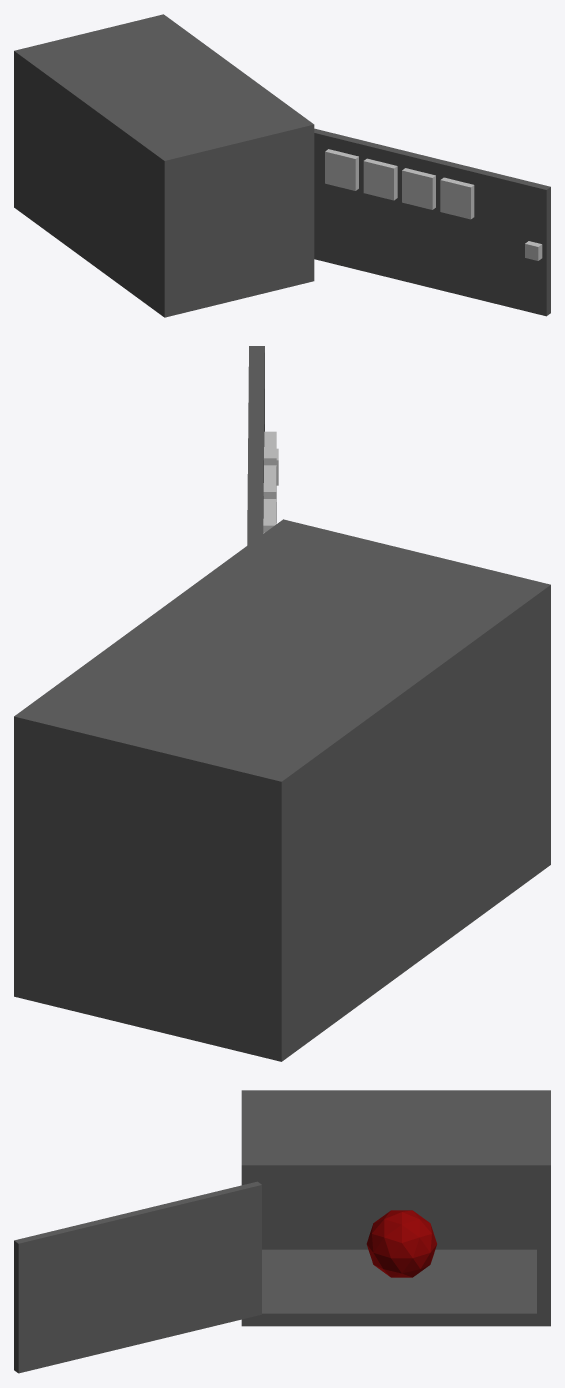
File: xyz2.fbx
3 renders of one model, top to bottom at view 1: azimuth 30°, elevation 25°; view 2: azimuth 150°, elevation 25°; view 3: azimuth 270°, elevation 25°, orthographic. The views are drawn at different scales.
Visible parts, largest first — view 1: Cube, 立方体; view 2: Cube, 立方体; view 3: Cube, 立方体, 棱角球.
Part boxes in pixels (left/top/right/bottom): Cube: left=14, top=14, right=314, bottom=317; 立方体: left=314, top=128, right=550, bottom=316; Cube: left=14, top=519, right=550, bottom=1061; 立方体: left=247, top=346, right=278, bottom=545; Cube: left=241, top=1090, right=550, bottom=1326; 立方体: left=14, top=1181, right=261, bottom=1373; 棱角球: left=366, top=1210, right=436, bottom=1277.
Bounding box in the file's own units: 371 × 200 × 605.
